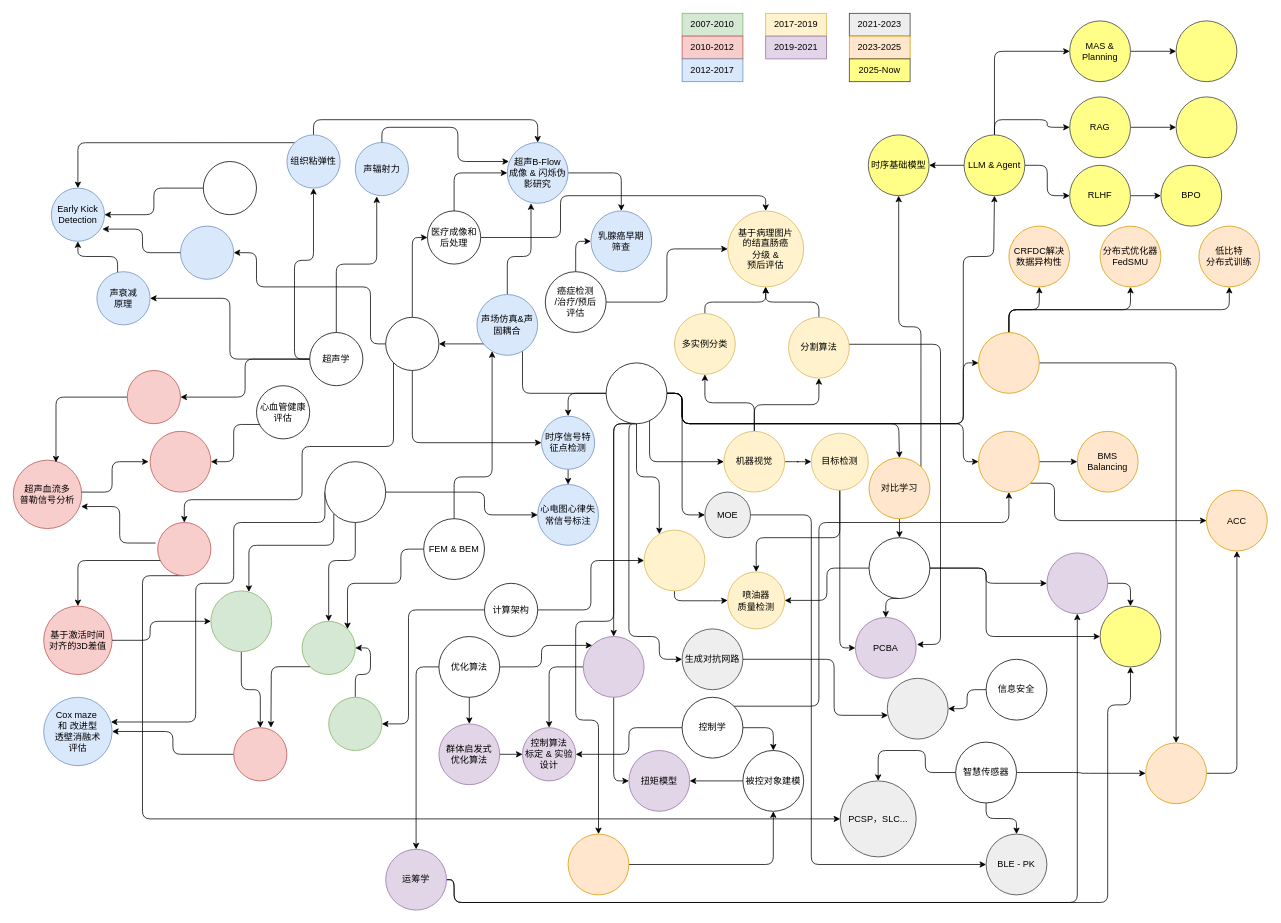
This 1281x923 diagram has some shape labels left out. The shapes that lost their labels are listed below. From the top down, each one's centre as x and y in pixels, then its label:
At point (1206, 51): "AgentPO".
At point (1206, 127): "NS-IR".
At point (229, 188): "石油工程".
At point (207, 252): "信号编解码".
At point (412, 343): "信号处理".
At point (1008, 362): "分布式训练".
At point (153, 397): "多普勒原理".
At point (636, 393): "深度学习 机器学习".
At point (180, 461): "Ankle Brachial Index".
At point (1008, 461): "强化学习".
At point (355, 491): "心律失常机理研究&治疗".
At point (184, 549): "时序信号特征抽取".
At point (674, 560): "神经网络压缩和边缘部署".
At point (899, 567): "智能制造".
At point (1077, 583): "产能规划".
At point (241, 621): "心外膜标 测系统".
At point (1130, 636): "AS".
At point (328, 647): "计算心脏电生理学模型".
At point (613, 666): "贝叶斯优化".
At point (355, 723): "MPI 加速".
At point (917, 708): "车载入侵 检测".
At point (260, 754): "心房3D惠根斯传播模型".
At point (1175, 773): "轨迹预测".
At point (598, 864): "Node".
